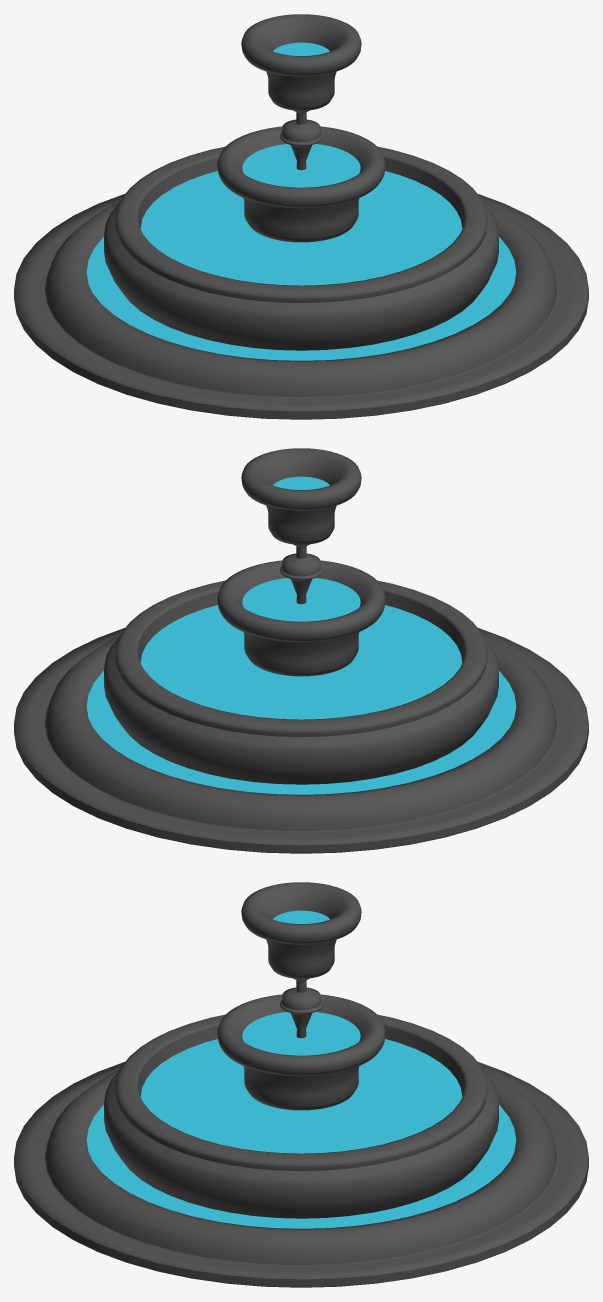
File: FUENTE.fbx
The picture shows the model from 3 angles, top to bottom: view 1: azimuth 30°, elevation 25°; view 2: azimuth 150°, elevation 25°; view 3: azimuth 270°, elevation 25°; orthographic projection.
Visible parts, largest first — view 1: FUENTE_BAJA, Circle, Circle.001, Circle.002, Circle.003; view 2: FUENTE_BAJA, Circle, Circle.001, Circle.002, Circle.003; view 3: FUENTE_BAJA, Circle, Circle.001, Circle.002, Circle.003.
Part boxes in pixels (x1,y1,x2,y2): FUENTE_BAJA: (14, 14, 588, 419); Circle: (140, 171, 462, 285); Circle.001: (86, 237, 516, 360); Circle.002: (242, 144, 360, 187); Circle.003: (273, 42, 329, 55); FUENTE_BAJA: (14, 448, 588, 853); Circle: (140, 605, 462, 719); Circle.001: (86, 671, 516, 794); Circle.002: (242, 578, 360, 621); Circle.003: (273, 476, 329, 489); FUENTE_BAJA: (14, 882, 588, 1287); Circle: (140, 1039, 462, 1153); Circle.001: (86, 1105, 516, 1228); Circle.002: (242, 1012, 360, 1055); Circle.003: (273, 910, 329, 923).
Size of the model in its own units: 601 by 303 by 601.
